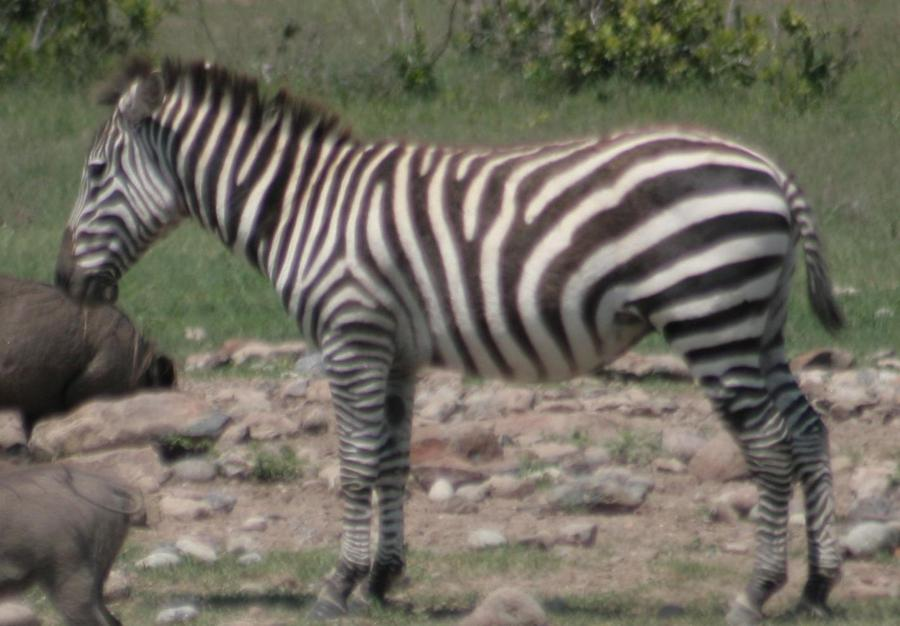zebra_plains: (253, 93, 825, 410)
